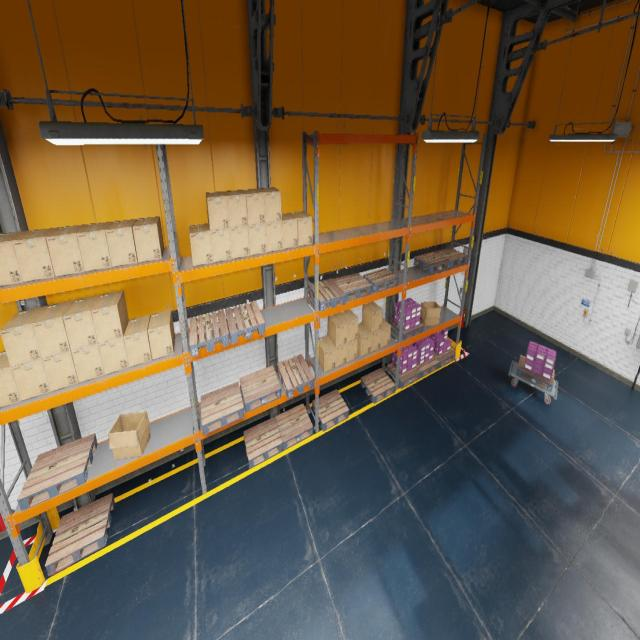box: (0, 306, 47, 367), (12, 227, 59, 282), (32, 301, 74, 358), (46, 224, 86, 277), (108, 412, 151, 459), (91, 290, 129, 343), (63, 295, 99, 350), (77, 222, 112, 272), (10, 359, 50, 401), (0, 230, 29, 286), (105, 218, 138, 266), (123, 314, 152, 366), (42, 351, 78, 392), (132, 216, 164, 262), (148, 309, 175, 360), (71, 344, 104, 383), (0, 350, 21, 408), (98, 337, 129, 375), (189, 223, 213, 266), (224, 190, 248, 228), (206, 192, 229, 230), (258, 187, 282, 223), (242, 189, 265, 225), (290, 211, 312, 246), (210, 228, 232, 263), (328, 313, 348, 347), (318, 336, 336, 372), (248, 223, 267, 256), (362, 301, 382, 332), (230, 226, 249, 258), (328, 336, 347, 367), (340, 310, 358, 342), (282, 213, 298, 249), (362, 323, 381, 352), (420, 301, 441, 326), (266, 221, 282, 252), (358, 323, 372, 356), (380, 318, 391, 348), (347, 339, 358, 363)
pallets: (17, 433, 97, 511), (44, 493, 114, 576), (200, 382, 244, 435), (244, 417, 282, 468), (239, 366, 281, 412), (190, 310, 230, 358), (225, 301, 265, 344), (275, 404, 313, 449), (277, 354, 314, 399), (312, 389, 349, 431), (516, 355, 554, 392), (361, 368, 395, 404), (308, 279, 346, 311), (333, 273, 372, 301), (363, 268, 398, 293), (387, 363, 420, 388), (414, 252, 450, 274), (389, 318, 423, 340), (433, 248, 468, 268), (416, 357, 439, 377), (433, 349, 455, 368)
